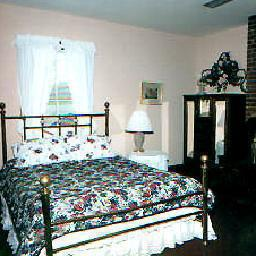Armario: (183, 96, 236, 184)
Cama: (14, 130, 212, 252)
